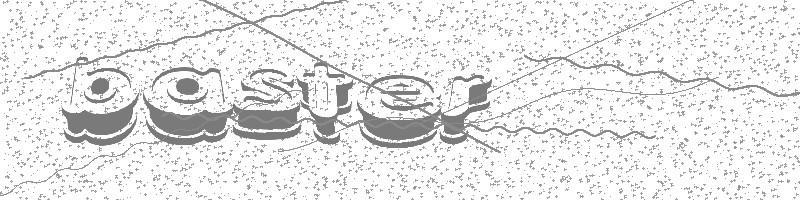a: (142, 65, 233, 147)
b: (62, 56, 138, 147)
e: (356, 74, 441, 150)
r: (442, 73, 492, 146)
s: (234, 68, 304, 141)
t: (296, 61, 353, 147)
